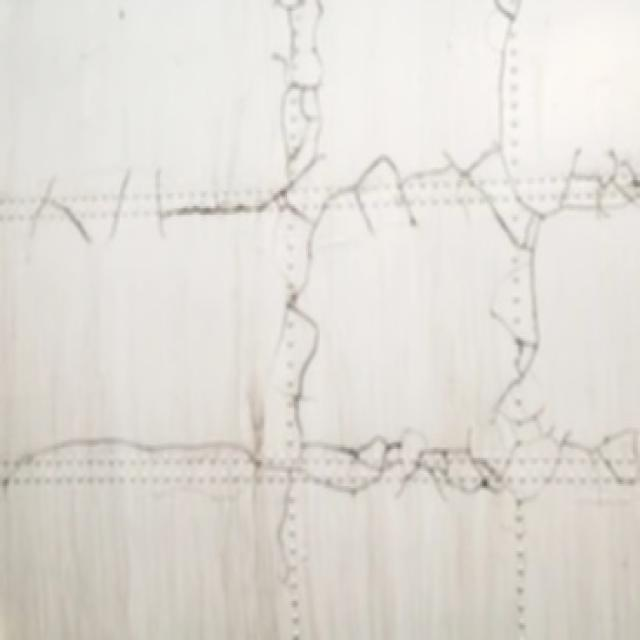crack: (19, 135, 640, 248), (3, 423, 640, 501)
